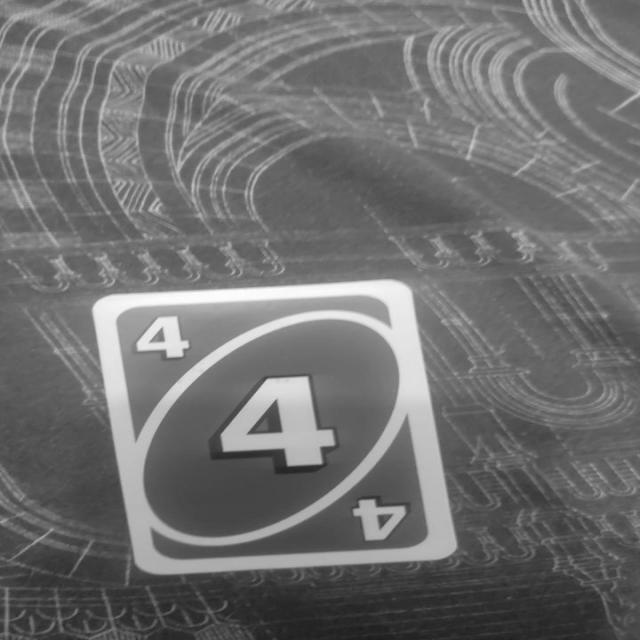card_4: (90, 278, 458, 576)
